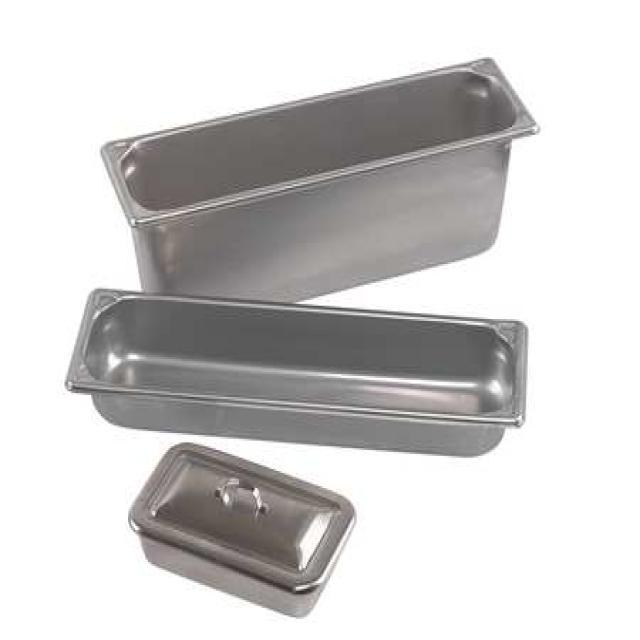Catheter Tray: (99, 52, 537, 282), (66, 266, 539, 462)
